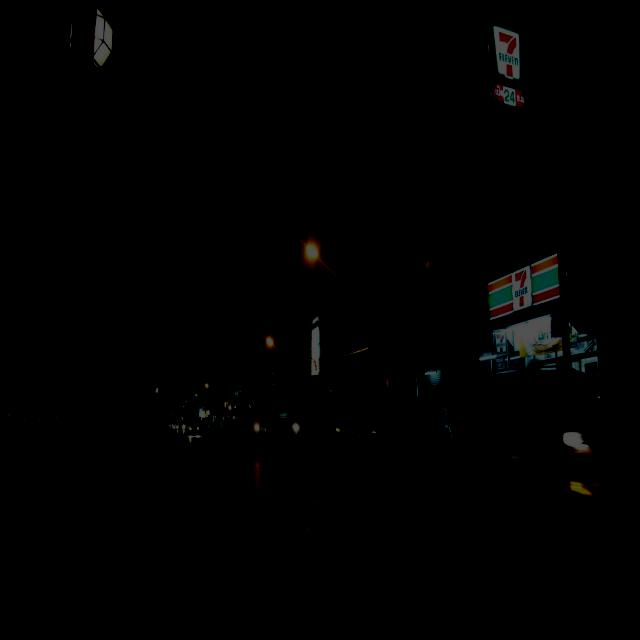Motorbike: (486, 433, 618, 576)
